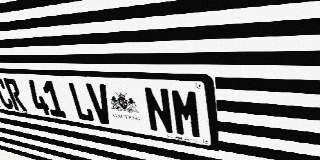1: (40, 80, 67, 118)
4: (25, 79, 51, 116)
C: (0, 77, 15, 110)
L: (67, 82, 95, 123)
M: (170, 88, 203, 140)
N: (142, 86, 175, 135)
R: (3, 78, 27, 112)
V: (85, 83, 115, 126)
